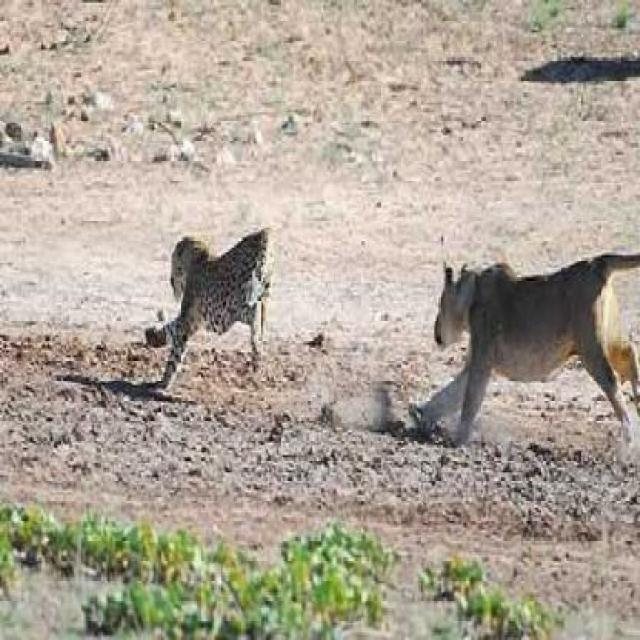Leopard: (108, 179, 326, 393)
